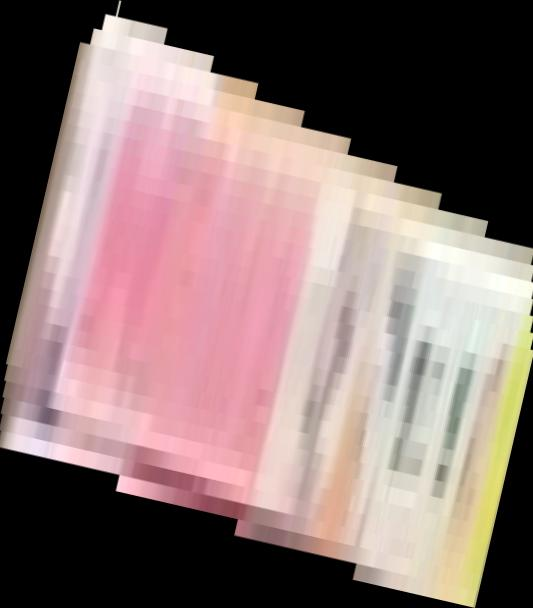flat: (1, 1, 533, 608)
